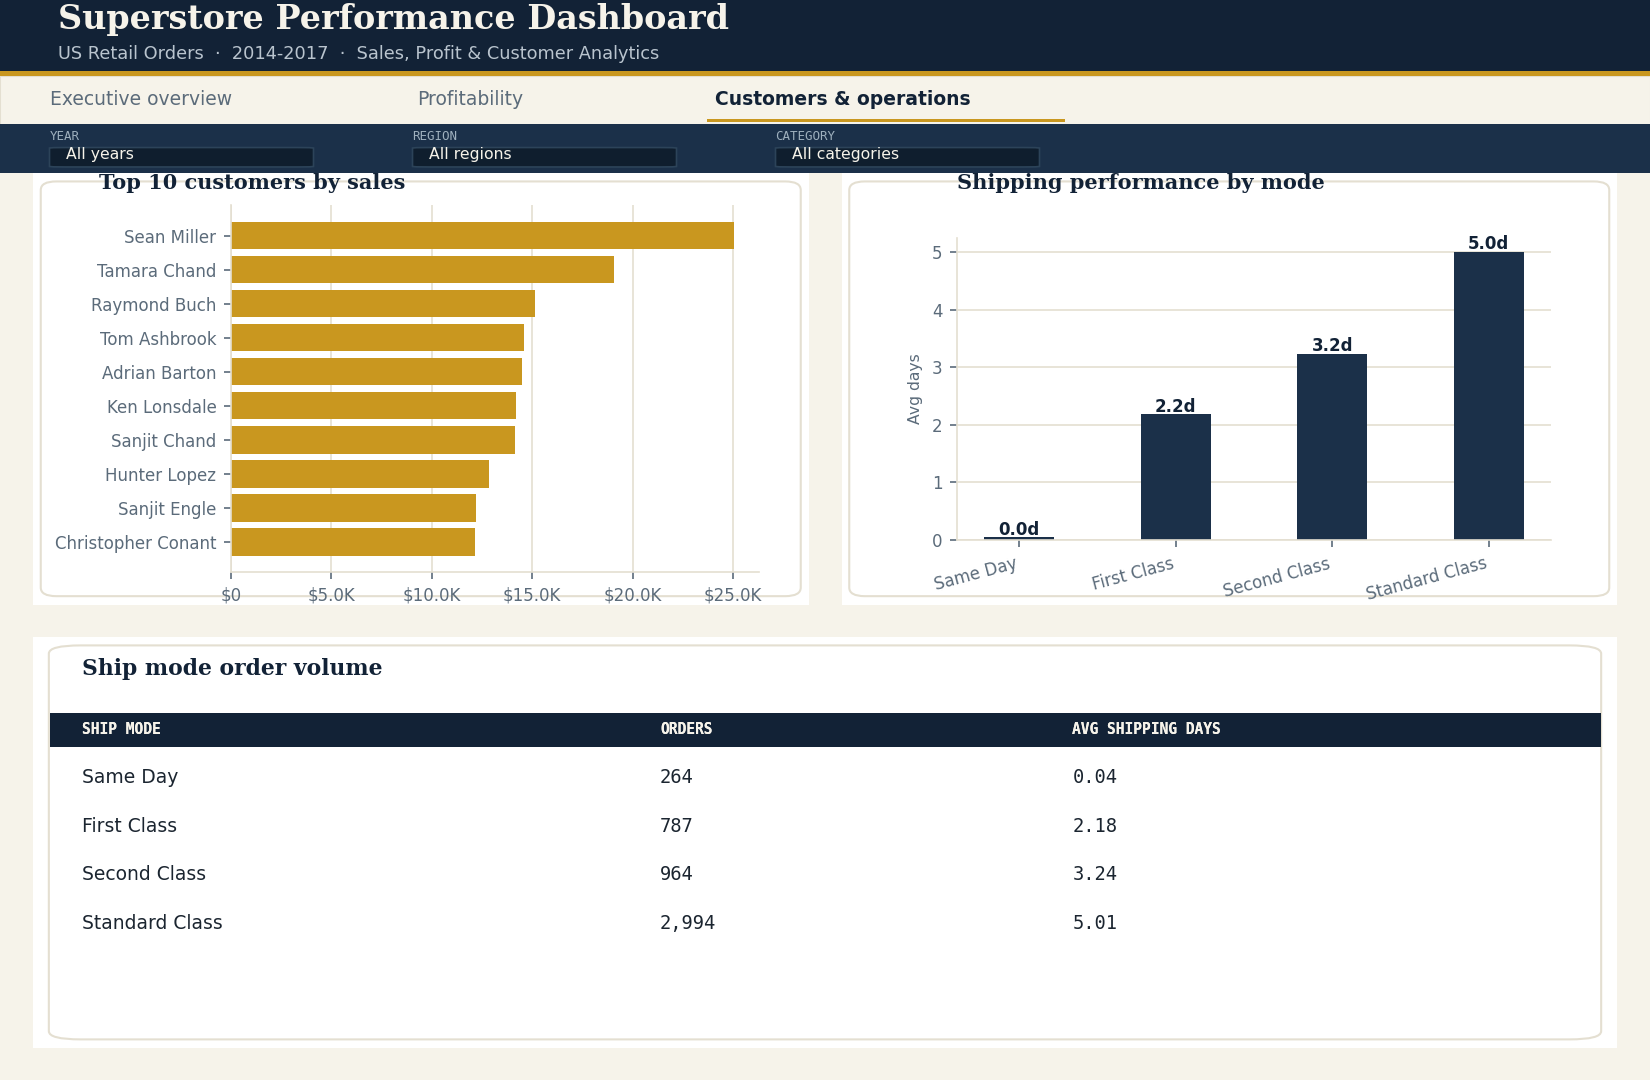

The dashboard page shown, as its layout file describes it:
{"tool":"powerbi","page":{"name":"Customers & Operations","canvas":[1700,1800],"ordinal":2},"visuals":[{"type":"barChart","title":"Top 10 customers by sales","fields":{"Category":["customer.Customer Name"],"Y":["customer.Total Sales"]},"box":[17.5,342.5,1647.5,450],"z":0},{"type":"clusteredColumnChart","title":"Shipping performance by mode","fields":{"Category":["customer.Ship Mode"],"Y":["customer.Avg Shipping Days"]},"box":[17.5,817.5,1647.5,447.5],"z":1000},{"type":"tableEx","title":"Ship mode order volume","fields":{"Values":["customer.Ship Mode","customer.Total Orders","customer.Avg Shipping Days"]},"box":[0,1315,1665,445],"z":2000},{"type":"shape","box":[0,147.5,1800,170],"z":3000},{"type":"shape","box":[0,0,1800,147.5],"z":4000},{"type":"shape","box":[0,125,1800,44],"z":5000},{"type":"textbox","box":[0,0,1700,125],"z":6000},{"type":"slicer","fields":{"Values":["DateTable.Year"]},"box":[17.5,165,340,135],"z":6001},{"type":"slicer","fields":{"Values":["customer.Region"]},"box":[392.5,165,342.5,135],"z":6002},{"type":"slicer","fields":{"Values":["customer.Category"]},"box":[772.5,165,342.5,135],"z":6003}]}

Visuals, with their boxes on the page's 1700x1800 design canvas (x1, y1, x2, y2). These are canvas units, not pixel positions in the 1650x1080 screenshot, which may show the page scaled, cropped or inside an application window:
"Top 10 customers by sales" barChart: rect(18, 342, 1665, 792)
"Shipping performance by mode" clusteredColumnChart: rect(18, 818, 1665, 1265)
"Ship mode order volume" tableEx: rect(0, 1315, 1665, 1760)
shape: rect(0, 148, 1800, 318)
shape: rect(0, 0, 1800, 148)
shape: rect(0, 125, 1800, 169)
textbox: rect(0, 0, 1700, 125)
slicer - DateTable.Year: rect(18, 165, 358, 300)
slicer - customer.Region: rect(392, 165, 735, 300)
slicer - customer.Category: rect(772, 165, 1115, 300)
